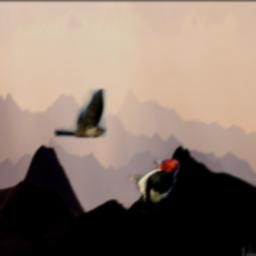Cuckoo: (53, 89, 105, 137)
Woodpecker: (127, 159, 181, 215)
